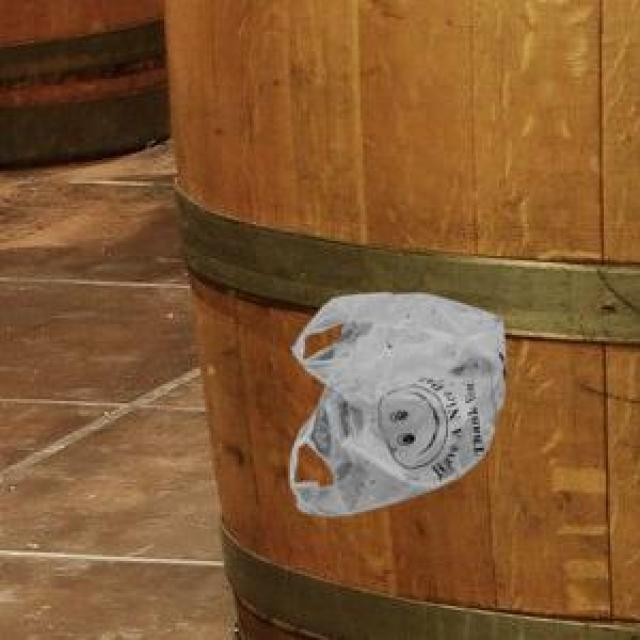waste: (290, 292, 505, 516)
